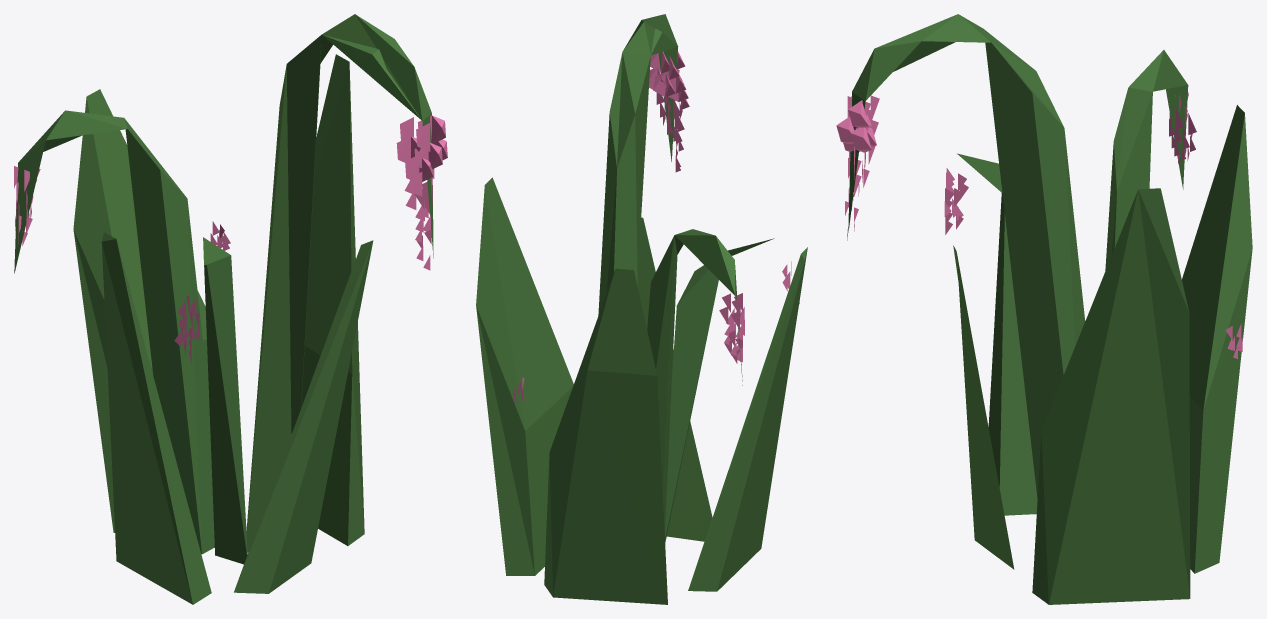
File: flower_04.glb
The picture shows the model from 3 angles, left to right: view 1: azimuth 30°, elevation 25°; view 2: azimuth 150°, elevation 25°; view 3: azimuth 270°, elevation 25°; orthographic projection. The views are drawn at different scales.
Visible parts, largest first — view 1: Object_105, Object_106; view 2: Object_105, Object_106; view 3: Object_105, Object_106.
Boxes of the visible parts, box(x1,y1,x2,y2) form: Object_105: box(14, 14, 433, 604); Object_106: box(14, 115, 447, 364); Object_105: box(476, 14, 807, 604); Object_106: box(513, 51, 799, 404); Object_105: box(848, 14, 1252, 604); Object_106: box(836, 91, 1242, 358).
Bounding box in the file's own units: 1.02 × 1.77 × 1.18.
